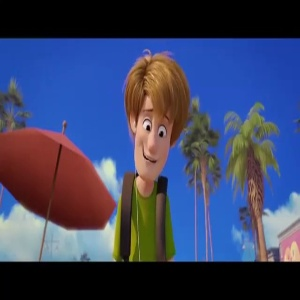Shagy: (123, 47, 192, 185)
